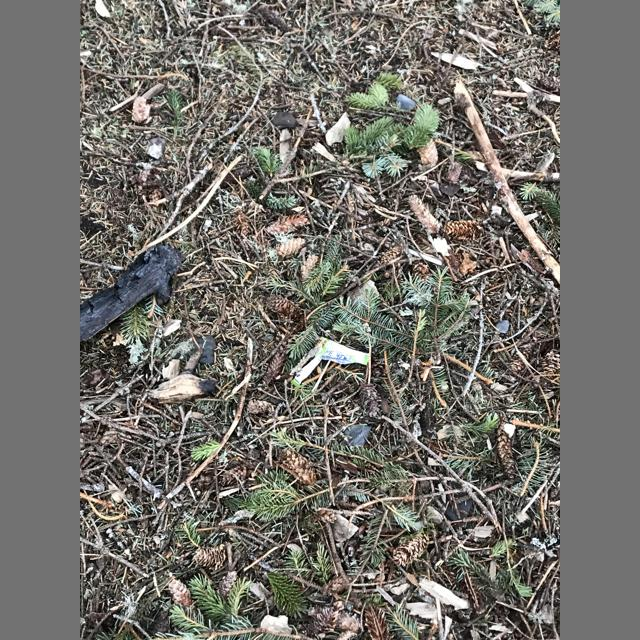litter: (290, 336, 370, 388)
